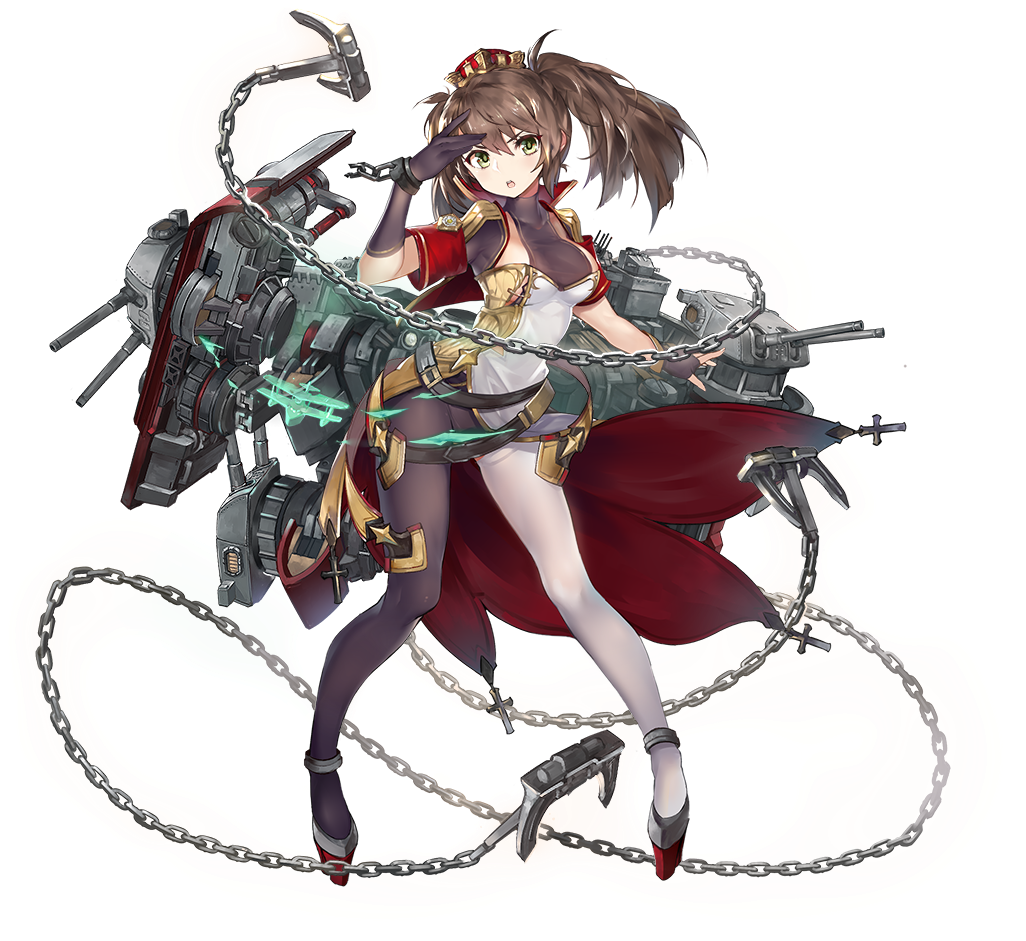person: (179, 52, 787, 737)
